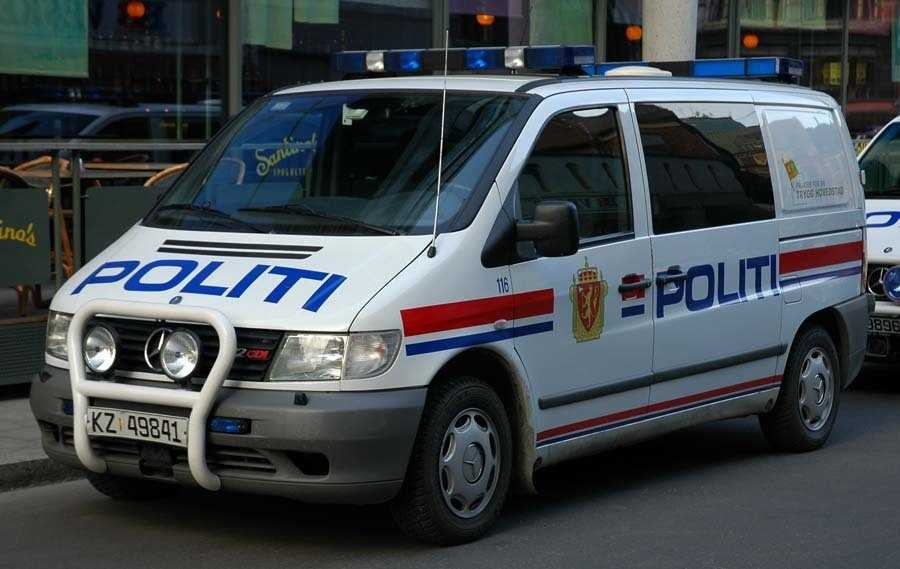Police Car: (38, 4, 869, 521)
